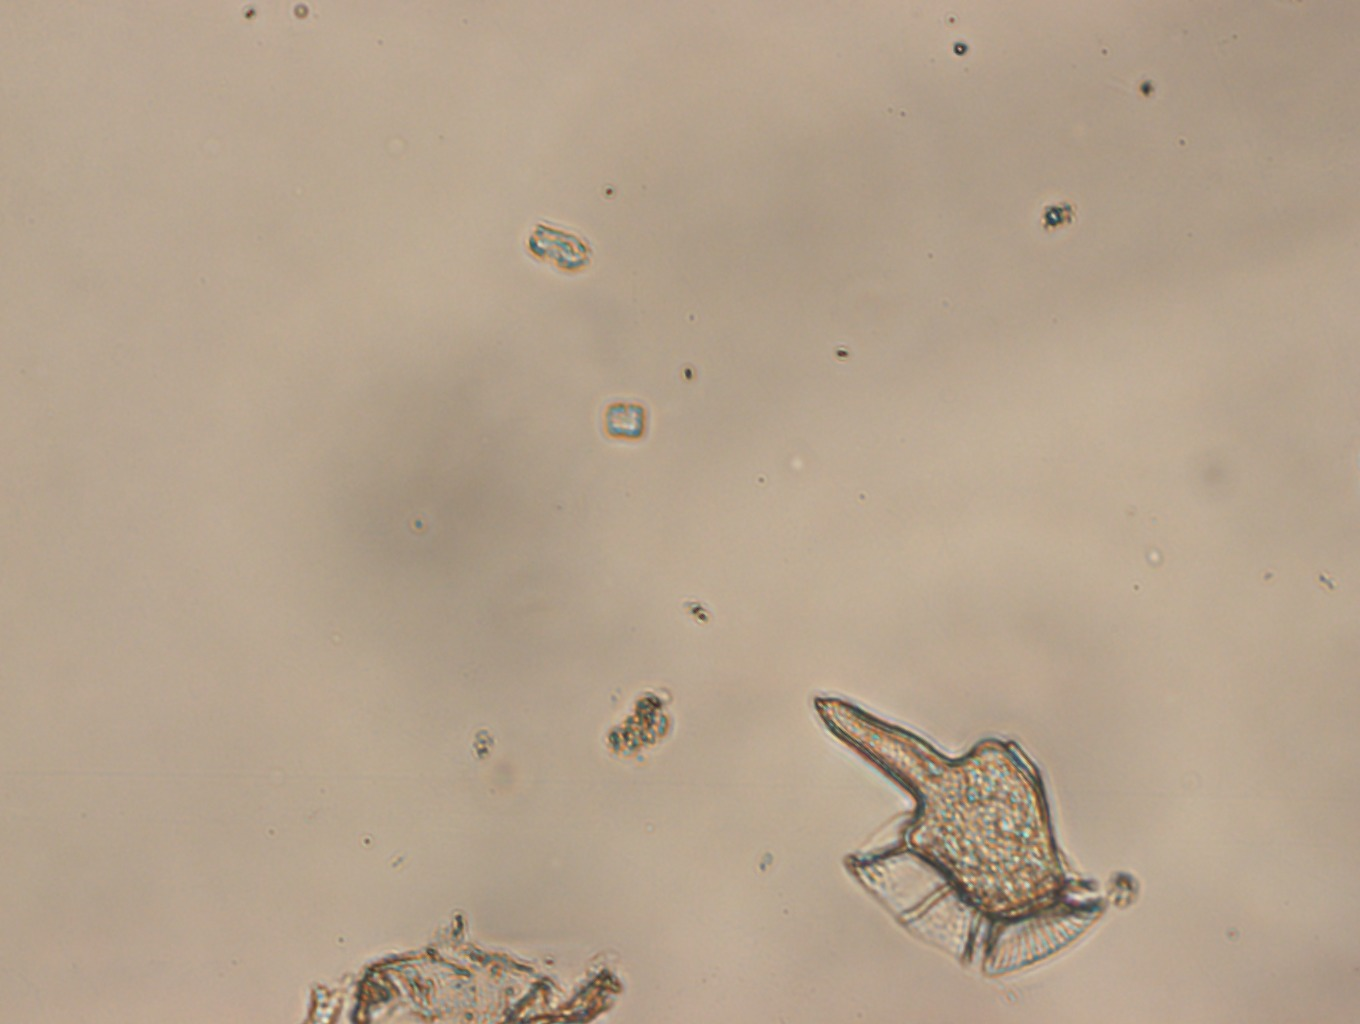dinophysis caudata: (810, 689, 1117, 976)
